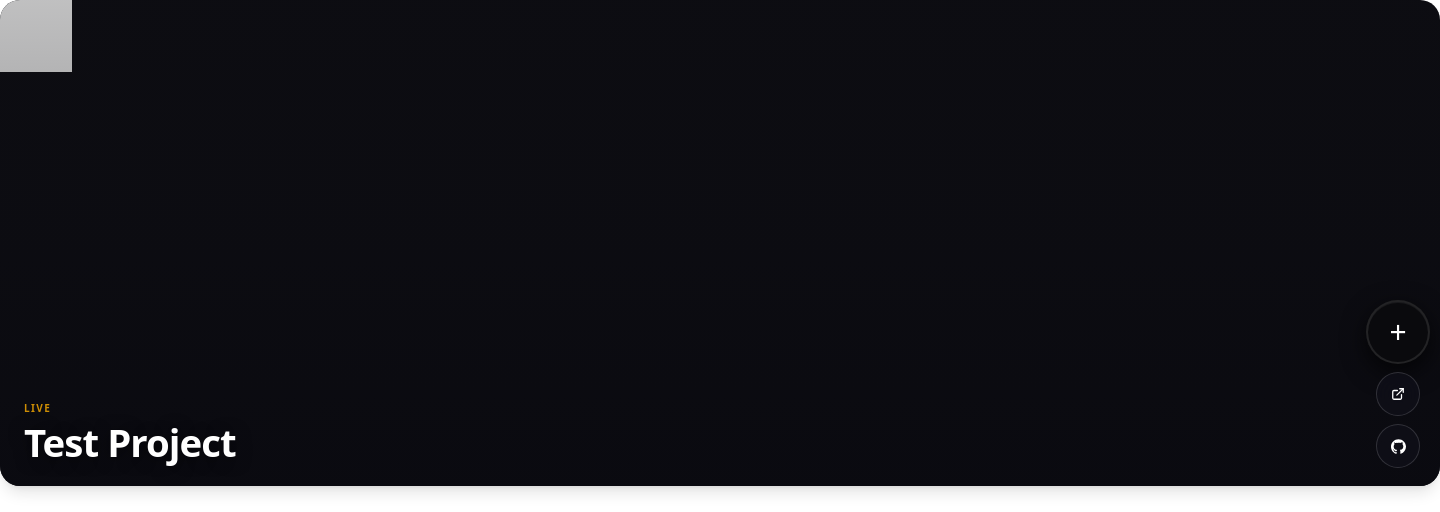
Test case: PortfolioCard › toggles the details panel
Click the button named "Show Test Project details" at [1398, 332], box [1366,300,1430,364]
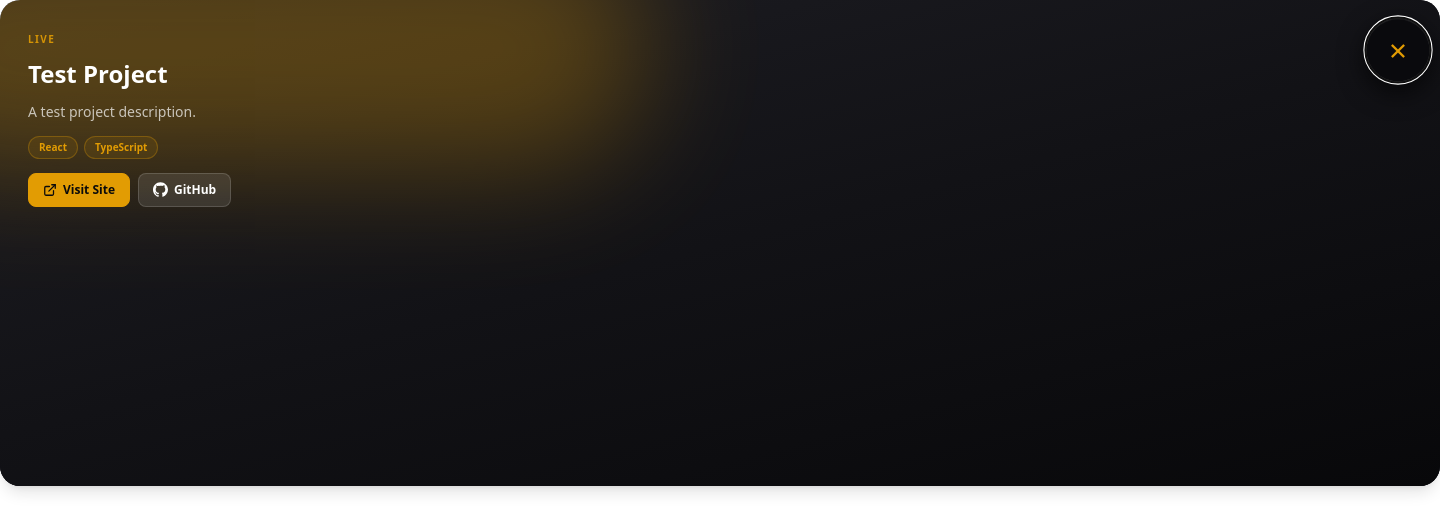
expect the button named "Show Test Project details" is expanded: met, box [1364,16,1432,84]
Press Escape
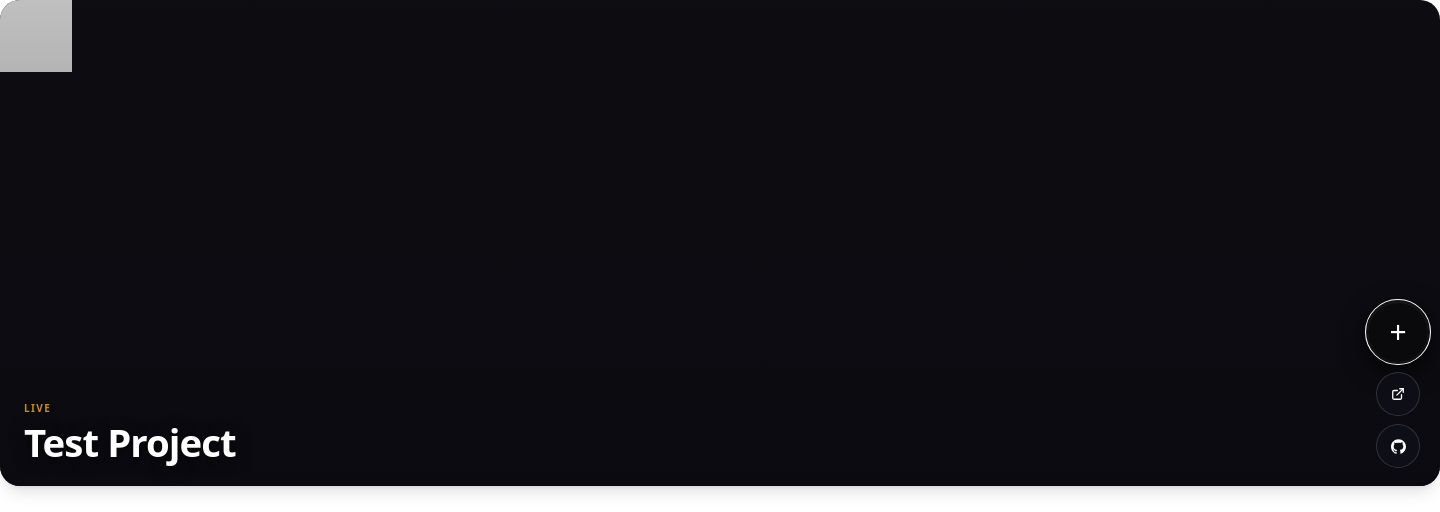
expect the button named "Show Test Project details" is collapsed: met, box [1366,300,1430,364]
